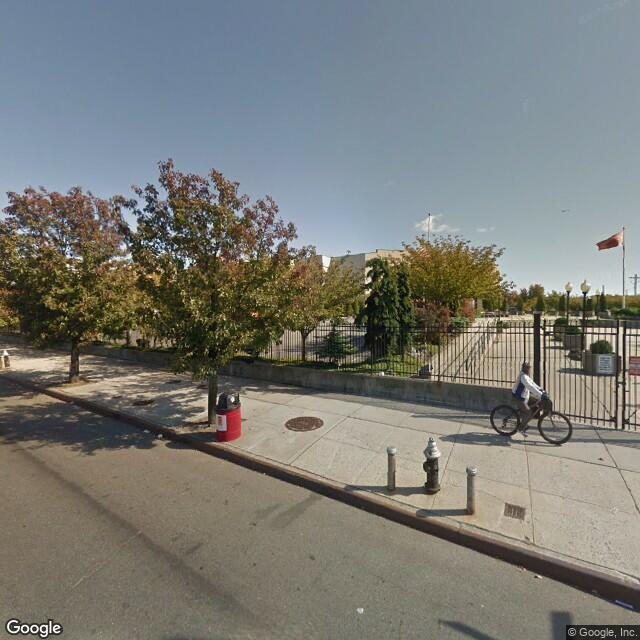litter: (613, 600, 638, 611), (155, 432, 167, 441), (140, 427, 149, 433), (534, 573, 543, 579)
